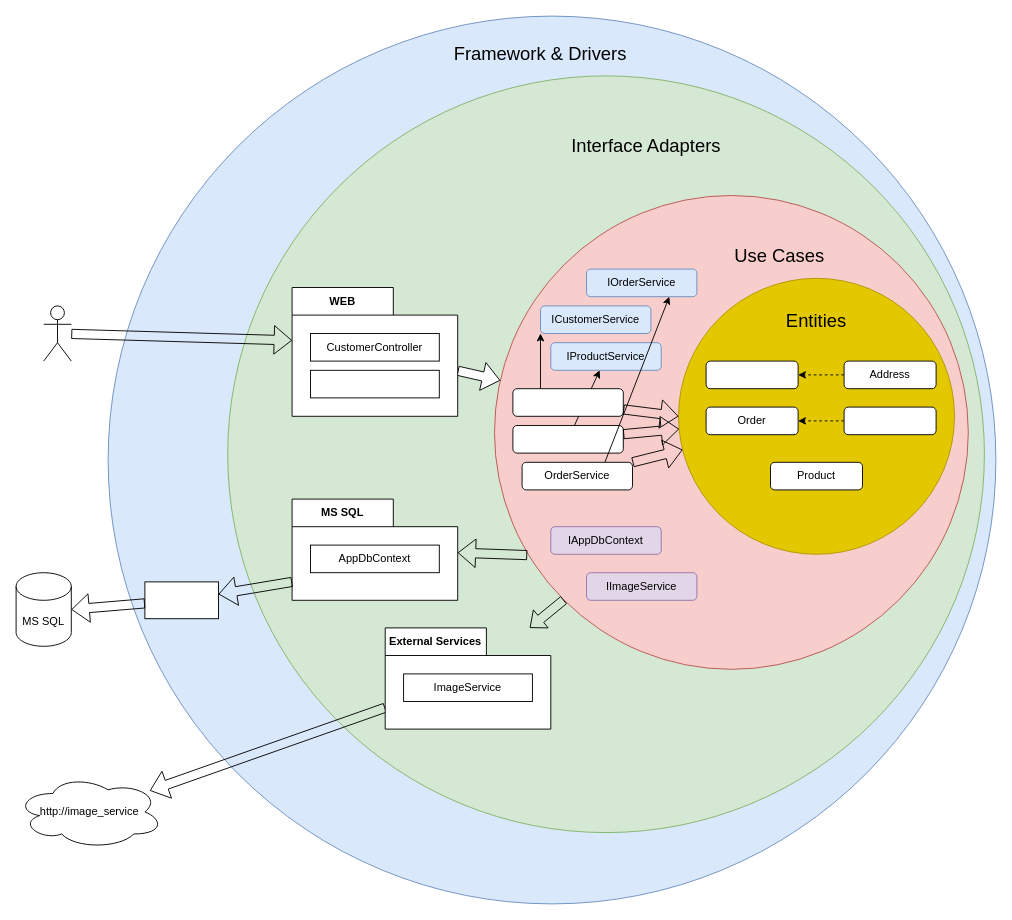
Some shapes in this 1012 by 920 pixel diagram are drawn without their labels. The centre of each missing label's shape, as x and y in pixels:
"Customer" goes at [751,374].
"CustomerService" goes at [567,402].
"Discount" goes at [889,420].
"MyDbDriver" goes at [181,600].
"ProductController" goes at [374,383].
"ProductService" goes at [567,439].
"User" goes at [57,333].
